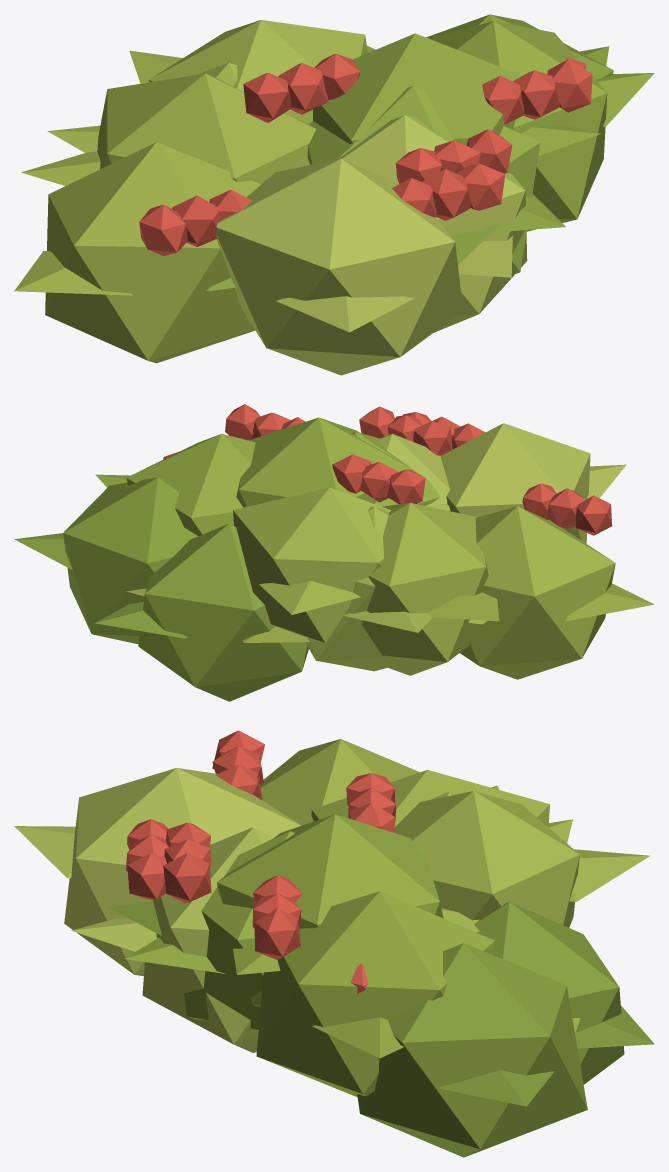
File: Bush_Berry.fbx
The picture shows the model from 3 angles, top to bottom: view 1: azimuth 30°, elevation 25°; view 2: azimuth 150°, elevation 25°; view 3: azimuth 270°, elevation 25°; orthographic projection. The views are drawn at different scales.
Visible parts, largest first — view 1: Bush_Berry; view 2: Bush_Berry; view 3: Bush_Berry.
Part boxes in pixels (bbox=[...]): Bush_Berry: bbox=[14, 14, 654, 375]; Bush_Berry: bbox=[14, 404, 654, 701]; Bush_Berry: bbox=[14, 730, 654, 1157].
Size of the model in its own units: 188 by 77.42 by 150.
